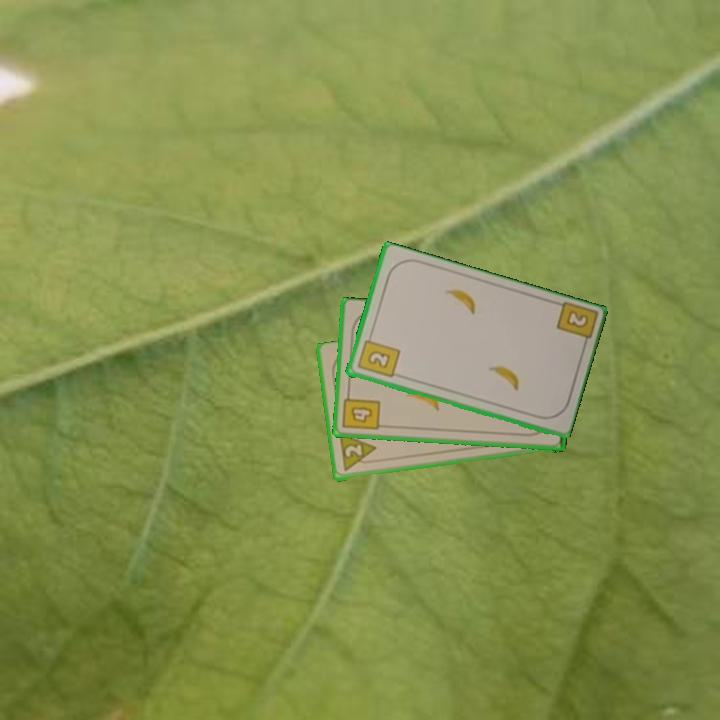2b: (552, 299, 598, 352), (354, 331, 402, 381)
2p: (336, 431, 380, 474)
4b: (339, 389, 383, 433)
